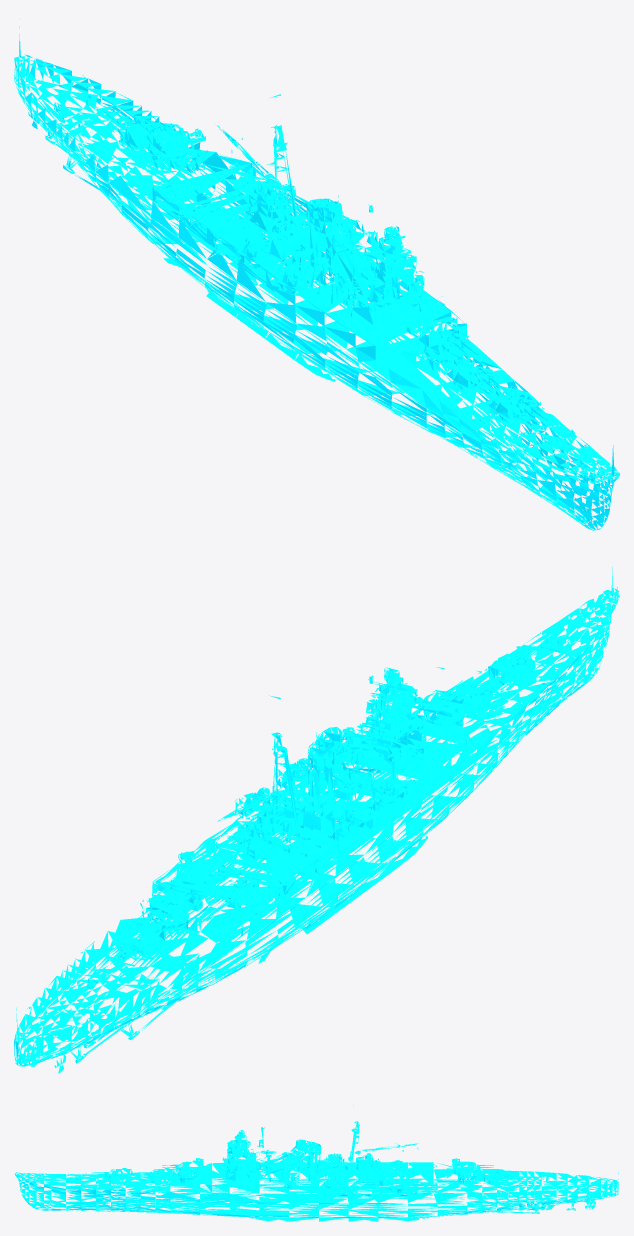
Rendered from VL_Suzuya.glb.
The picture shows the model from 3 angles, top to bottom: view 1: azimuth 30°, elevation 25°; view 2: azimuth 150°, elevation 25°; view 3: azimuth 270°, elevation 25°; orthographic projection. The views are drawn at different scales.
Size of the model in its own units: 1.6 by 2.57 by 13.39.
